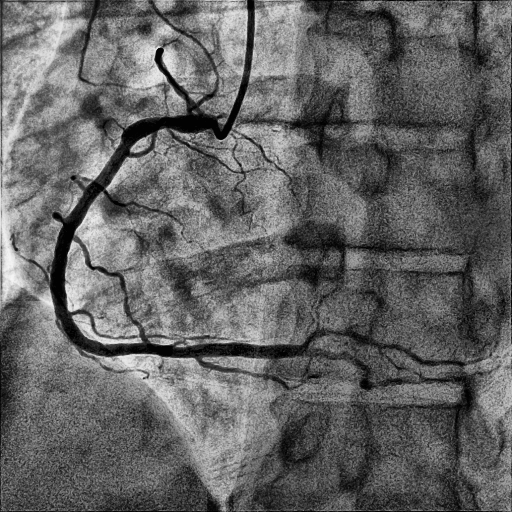pborca: (301, 331, 466, 368)
pda: (301, 346, 501, 389)
rca: (51, 115, 301, 359)
